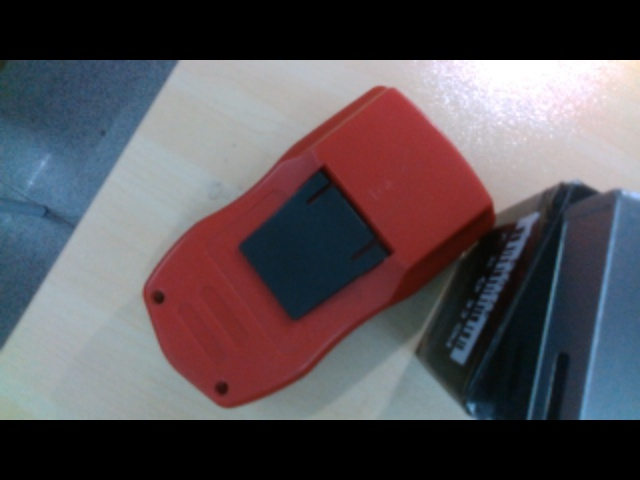Multimeter: (142, 84, 497, 409)
